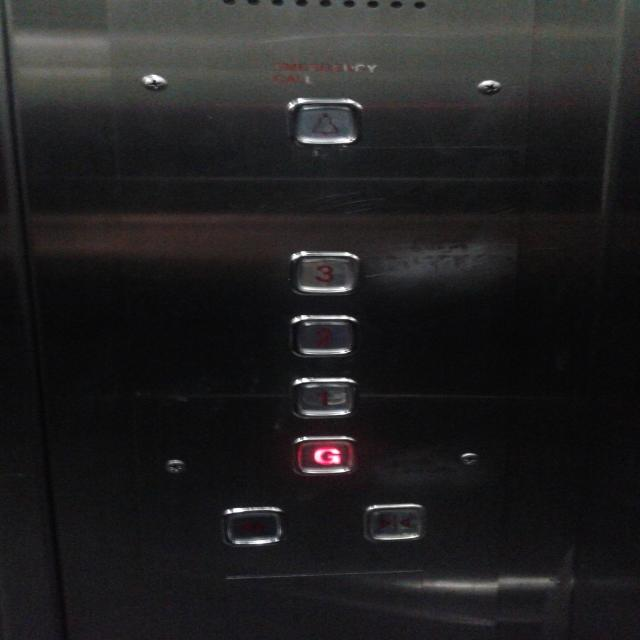1: (282, 376, 360, 422)
2: (283, 313, 362, 361)
3: (285, 248, 364, 299)
G: (288, 433, 360, 479)
alarm: (280, 93, 370, 153)
blur: (214, 503, 286, 549)
close: (357, 500, 429, 546)
